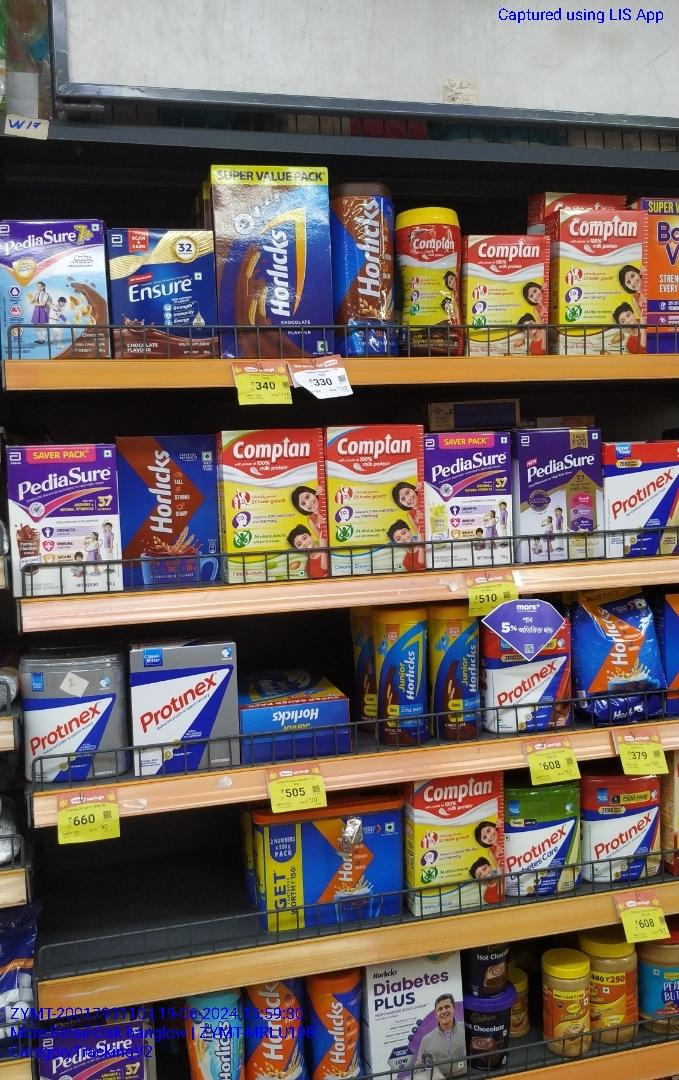COMPLAN_CHOCOLATE_500_GMS_JAR: (399, 208, 463, 354)
COMPLAN_CREAMY_CLASSIC_500_G_PACK: (328, 427, 425, 572)
COMPLAN_KESAR_BADAM_200_GMS_PACK: (468, 234, 548, 356)
COMPLAN_PISTA_BADAM_500_GMS_PACK: (223, 430, 327, 583)
HORLICKS_JUNIOR_VANILLA_500_GM_JAR: (376, 609, 428, 747), (432, 605, 482, 740)
HORLICK_CHOCOLATE_1_KG_JAR: (331, 182, 398, 354)
HORLICK_CHOCOLATE_1_KG_PACK: (215, 166, 329, 358)
HORLICK_CHOCOLATE_500_G_PACK: (119, 436, 216, 588)
HORLICK_CLASSIC_MALT_750_G_POUCH: (582, 591, 662, 722)
HORLICK_MALT_1_KG_CONTAINER: (261, 806, 402, 926)
PEDIASURE_VANILLA_500_G_PACK: (520, 433, 601, 559)
PROTINEX_CHOCOLATE_400_G_JAR: (486, 621, 572, 733), (584, 773, 661, 882)
PROTINEX_ORIGINAL_400_G_JAR: (20, 658, 121, 780)
